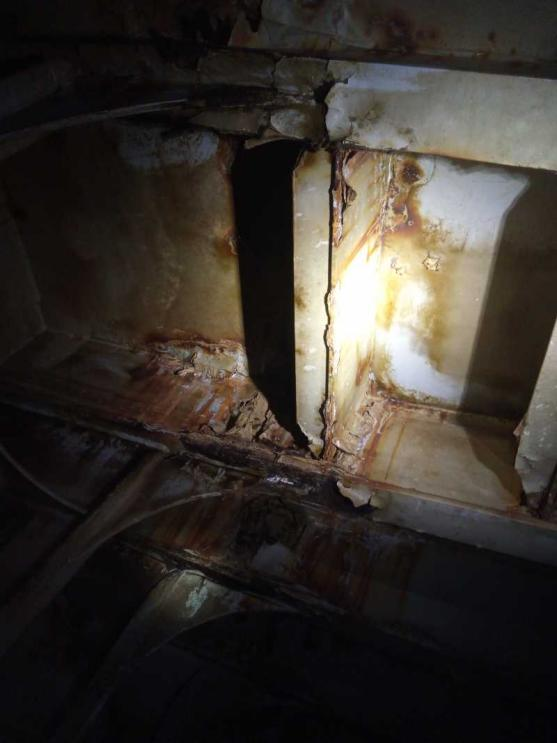corrosion: (82, 336, 296, 458), (323, 391, 447, 494), (250, 51, 347, 152), (321, 2, 453, 59), (311, 142, 361, 250), (381, 156, 440, 245), (181, 131, 271, 183), (194, 207, 244, 269)
